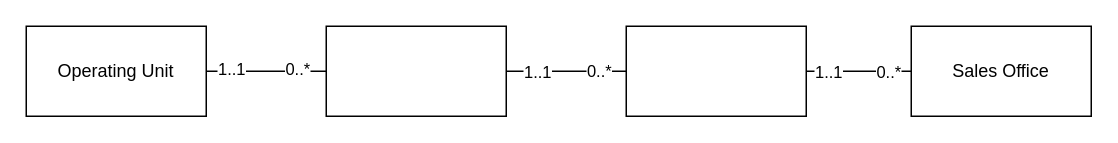
Image size: 1118x143. Some labels were removed from this diagram. The shapes that lost their labels are listed below. From the top down, each one's box as (x1, y1, x2, y2) in pixels, then its label:
(325, 25, 506, 116): Region
(625, 25, 806, 116): Division
